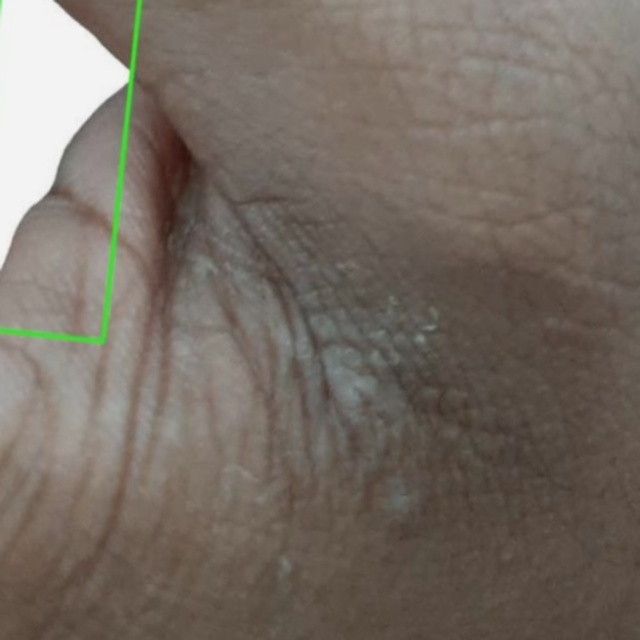Scabies: (0, 0, 139, 341)
